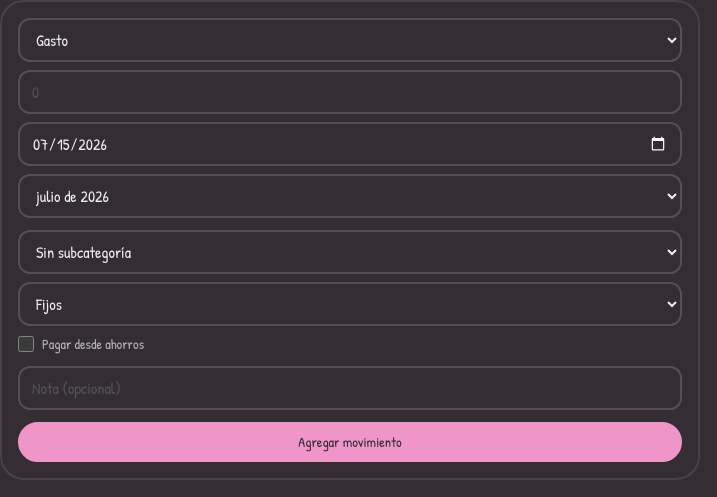
Test: TransactionForm — savings fund › shows the checkbox only for expenses
Select "Ingreso" in the dropdown named "Tipo de movimiento". click: (350, 40)
box: [18,18,682,62]
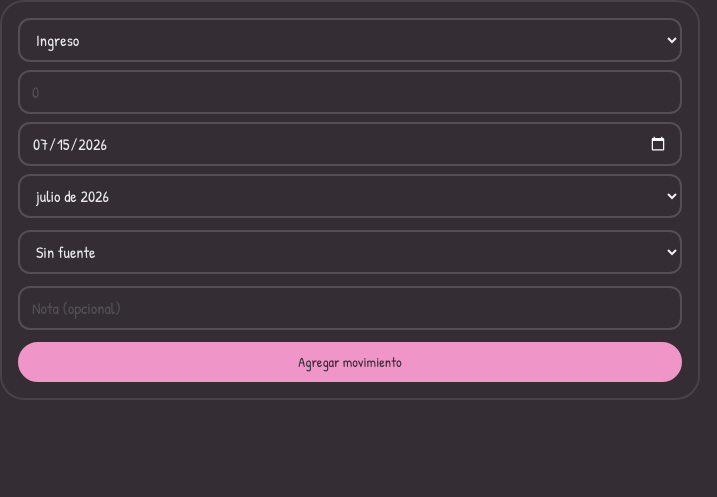
Result: the label labelled "Pagar desde ahorros" is gone
